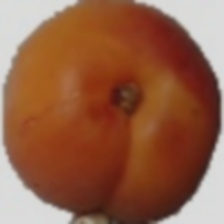apricot: (30, 26, 224, 210)
